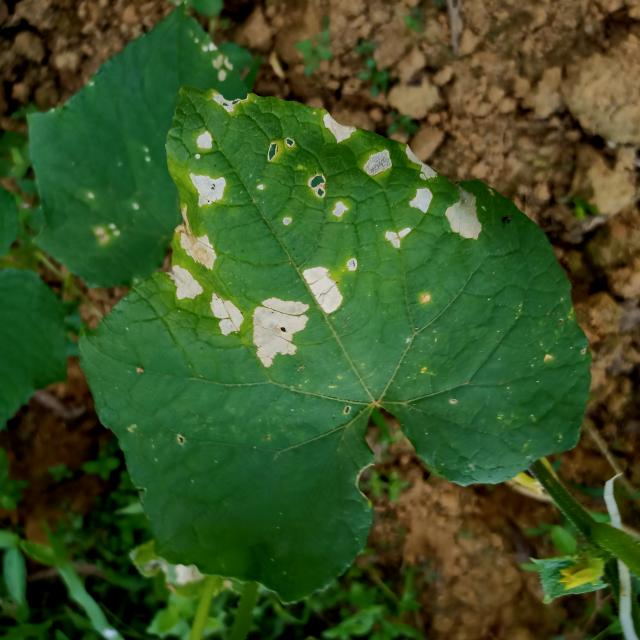disease_cucumber: (248, 258, 343, 372), (383, 182, 482, 254), (172, 229, 220, 305), (191, 128, 226, 210), (363, 148, 433, 182), (308, 173, 349, 220), (206, 289, 242, 339), (321, 111, 356, 146)
